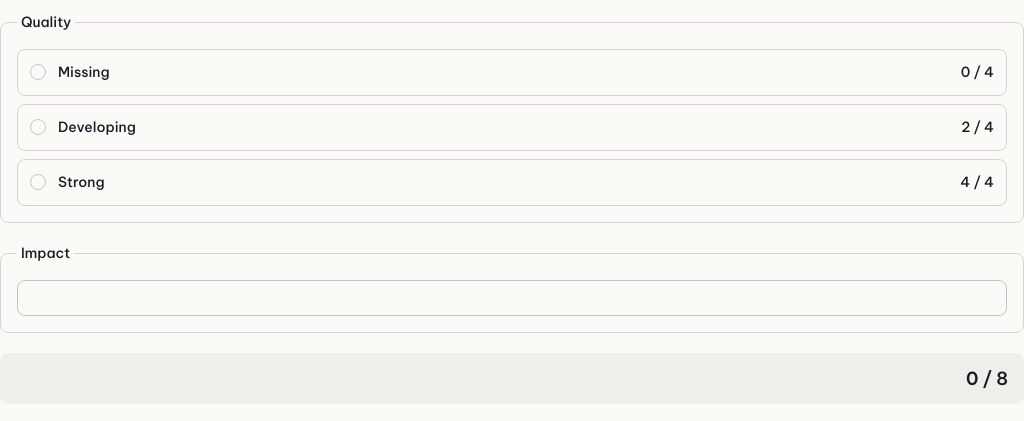
Test: instructor grading rubric › updates the rendered total from a labelled level radio group and numeric score
Click the radio button named "Strong" at point(38, 182), box x1=30 y1=174 x2=46 y2=190
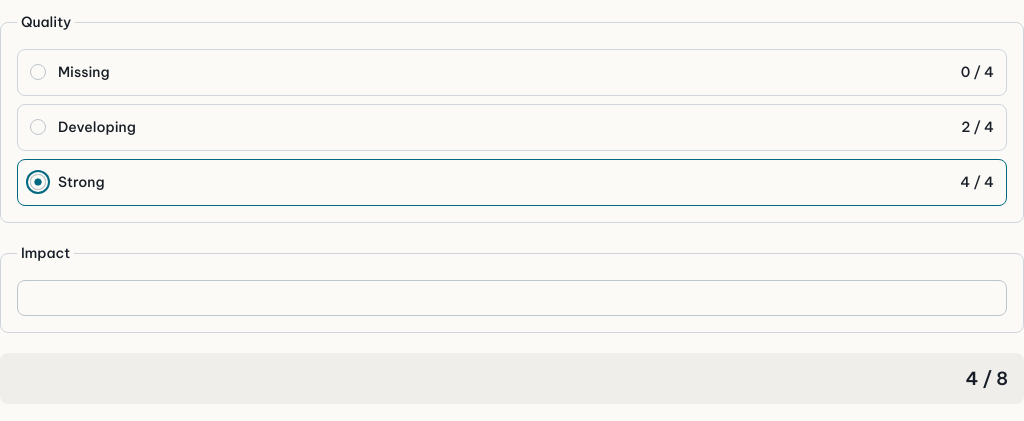
Type "3.5" into the number field named "Impact" at point(512, 298), box x1=17 y1=280 x2=1007 y2=316
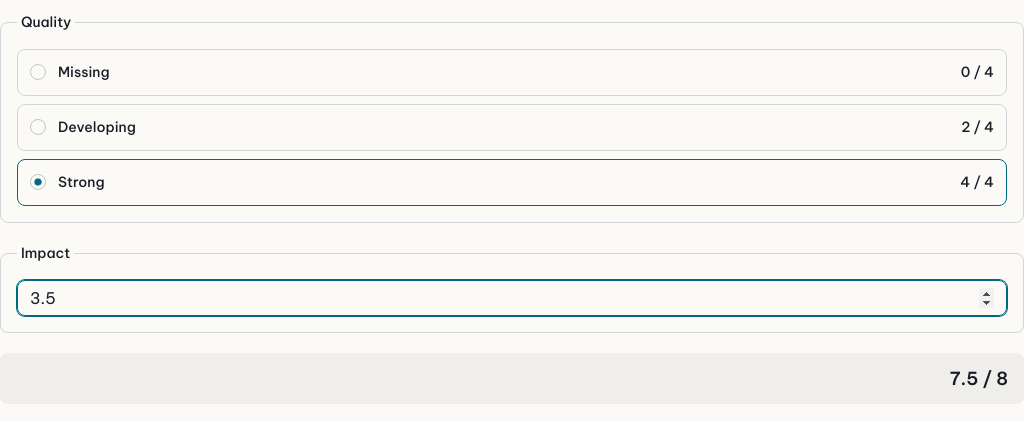
Expected: the element named "Quality" is shown, x1=17 y1=49 x2=1007 y2=206
Expected: the text "7.5 / 8" is shown, x1=0 y1=353 x2=1023 y2=404
